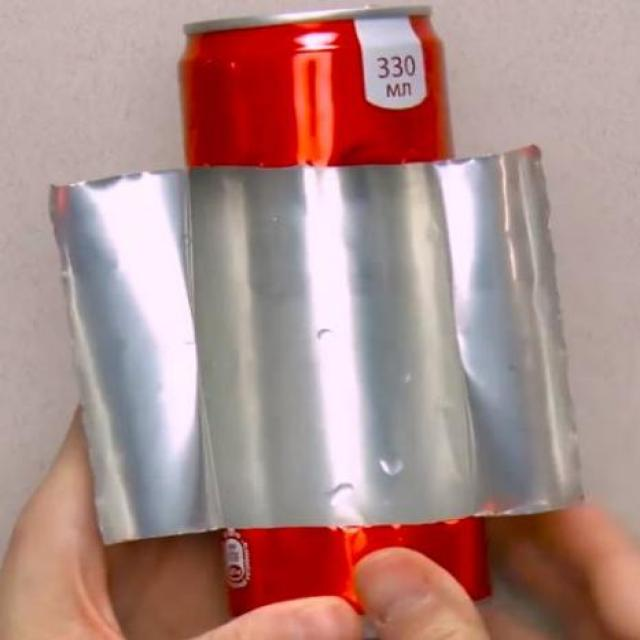-Recyclables - can-: (168, 16, 499, 620)
